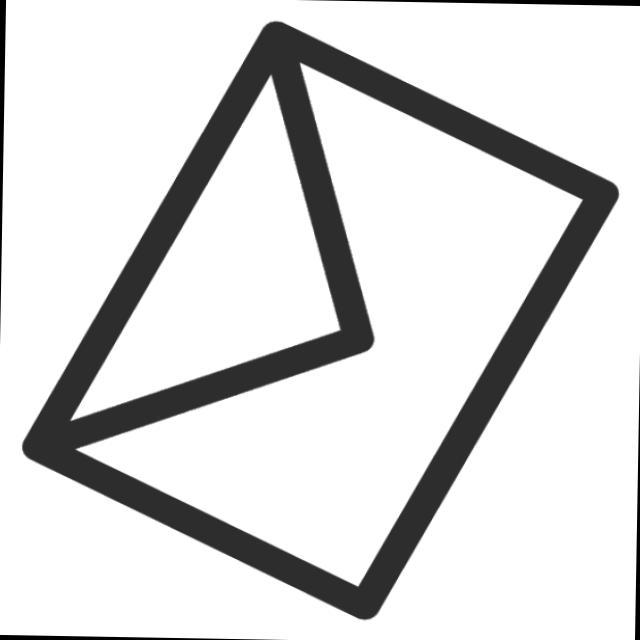letter: (15, 10, 636, 629)
